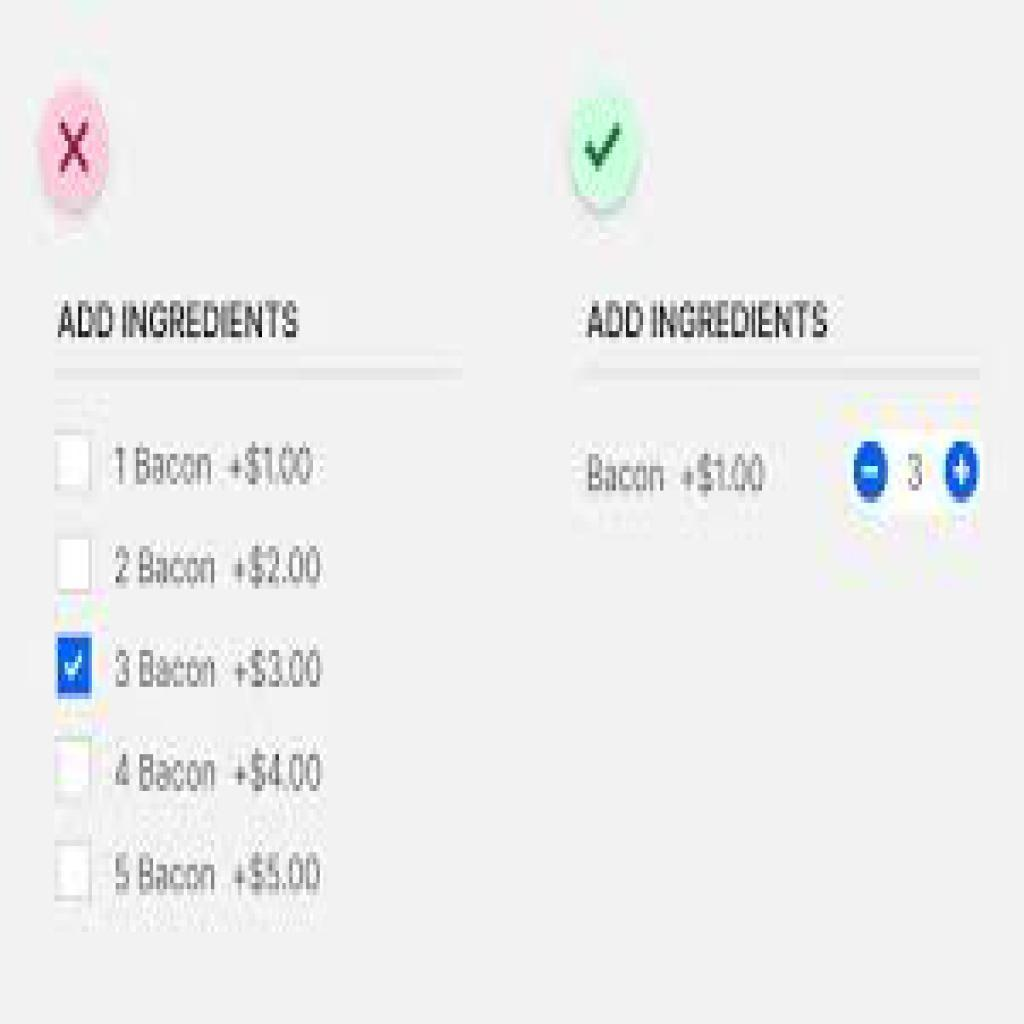checkbox: (52, 830, 96, 908), (55, 629, 94, 699), (51, 434, 95, 489), (54, 736, 93, 798), (54, 534, 90, 596)
